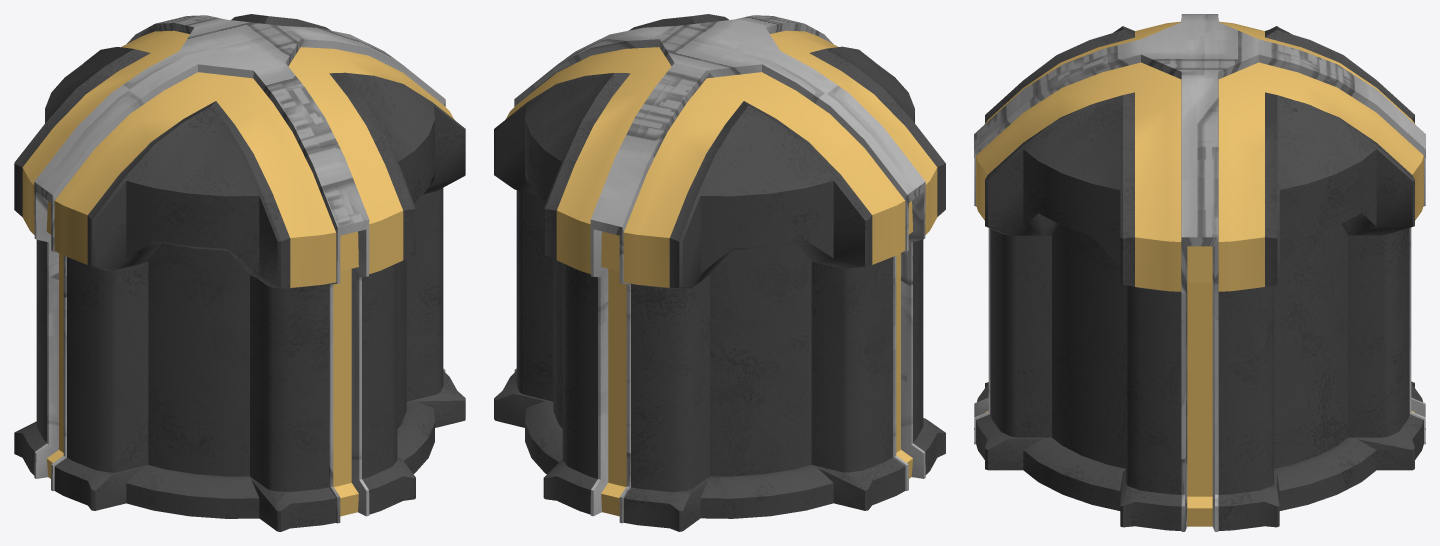
The model's file is NB_silo_3.fbx.
3 views of the same model, side by side, from view 1: azimuth 30°, elevation 25°; view 2: azimuth 150°, elevation 25°; view 3: azimuth 270°, elevation 25° (orthographic).
Parts seen in each view (by area): view 1: NB_silo_3; view 2: NB_silo_3; view 3: NB_silo_3.
Part boxes in pixels (x1,y1,x2,y2): NB_silo_3: (14, 14, 465, 531); NB_silo_3: (494, 14, 945, 531); NB_silo_3: (974, 14, 1425, 531).
Bounding box in the file's own units: 407 × 387 × 407.
